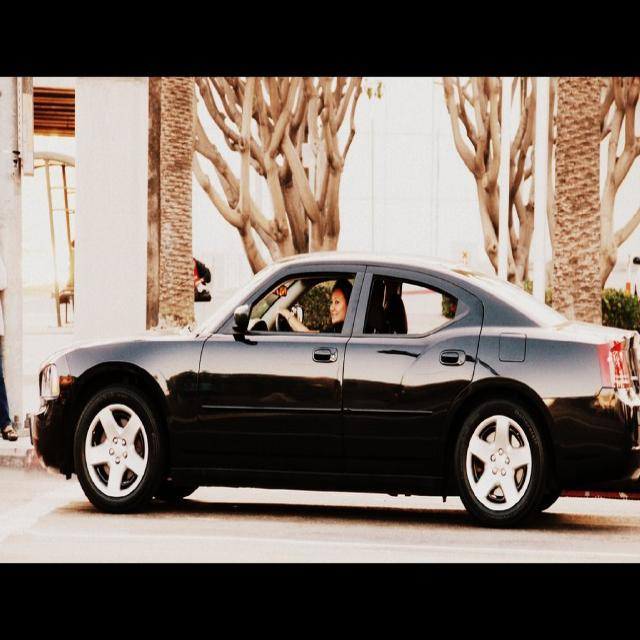car: (29, 253, 634, 527)
